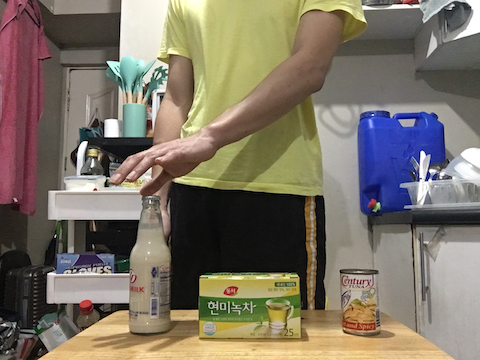bottle: (124, 190, 175, 338)
box: (196, 269, 305, 342)
can: (338, 266, 382, 339)
